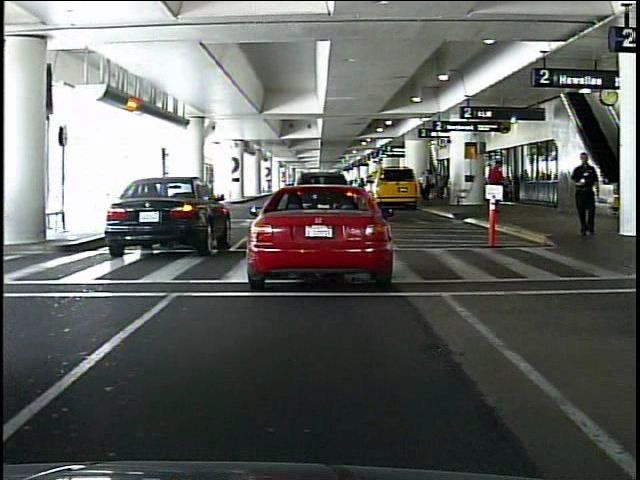person: (571, 151, 601, 239), (483, 159, 507, 215), (418, 165, 431, 202)
